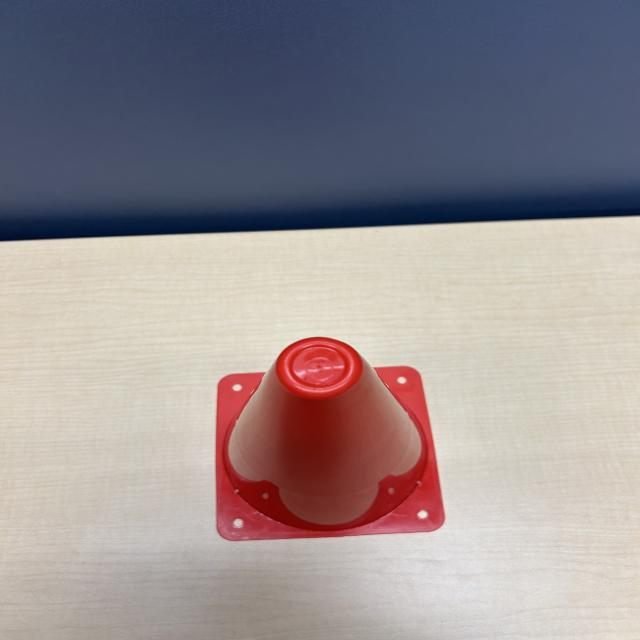orange cone: (207, 332, 446, 545)
